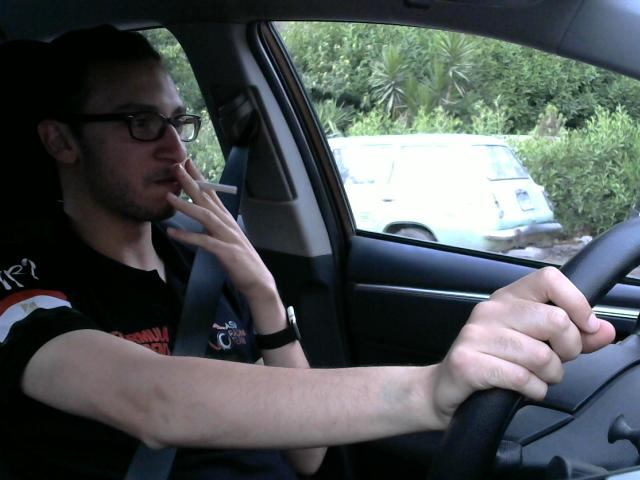Smoking: (169, 167, 244, 199)
